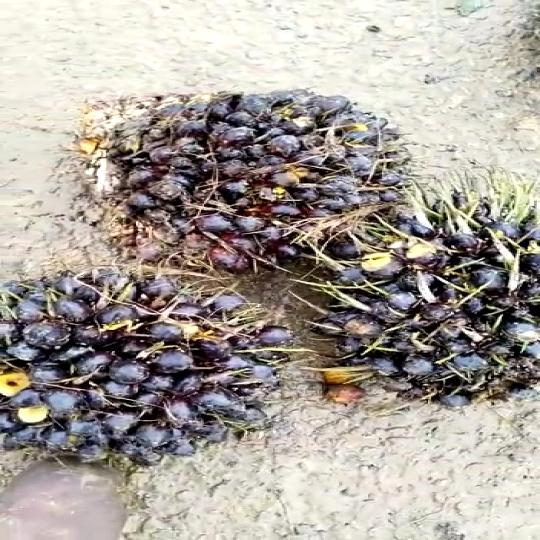mentah: (63, 83, 392, 282), (0, 260, 276, 481), (295, 186, 535, 417)
